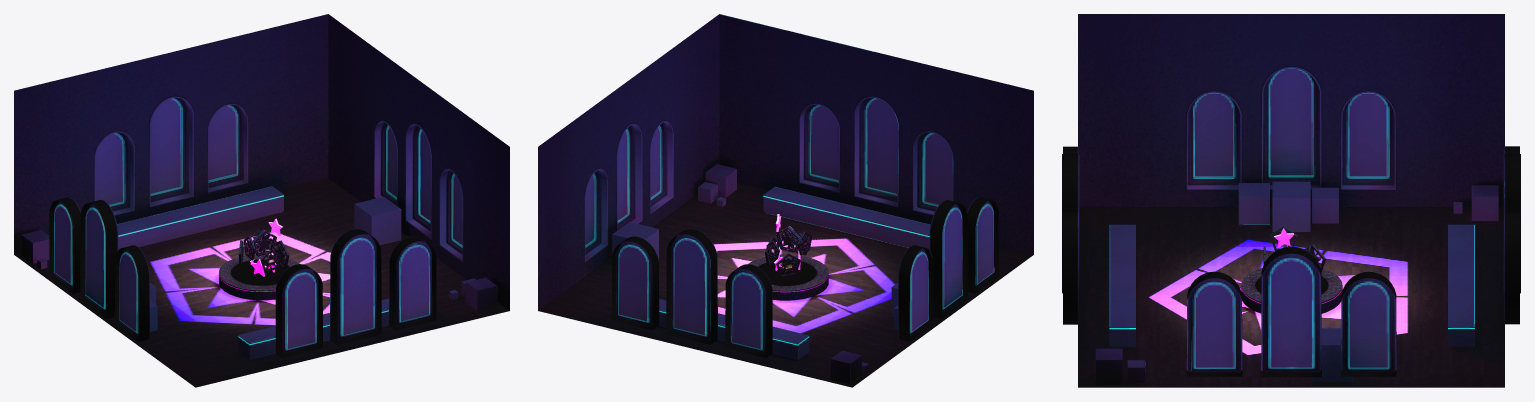
File: Star_Web_7.glb
3 renders of one model, left to right at view 1: azimuth 30°, elevation 25°; view 2: azimuth 150°, elevation 25°; view 3: azimuth 270°, elevation 25°, orthographic. The views are drawn at different scales.
Parts seen in each view (by area): view 1: Wall, Floor, Elements, Stage, Star_Logo, Star; view 2: Wall, Floor, Elements, Stage, Star_Logo, Star; view 3: Wall, Floor, Elements, Stage, Star_Logo.
Boxes of the visible parts, <box> form: Wall: <box>14,14,509,357</box>; Floor: <box>14,178,509,387</box>; Elements: <box>21,186,497,360</box>; Stage: <box>219,254,299,300</box>; Star_Logo: <box>238,230,289,271</box>; Star: <box>250,218,282,276</box>; Wall: <box>538,14,1033,358</box>; Floor: <box>538,182,1033,387</box>; Elements: <box>612,164,930,384</box>; Stage: <box>748,254,828,300</box>; Star_Logo: <box>764,231,812,277</box>; Star: <box>774,214,800,270</box>; Wall: <box>1062,14,1520,377</box>; Floor: <box>1078,207,1504,387</box>; Elements: <box>1095,181,1498,384</box>; Stage: <box>1241,268,1342,313</box>; Star_Logo: <box>1263,226,1325,272</box>.
Size of the model in its own units: 21.69 by 10.1 by 21.69.
11 materials, 11 textured.
